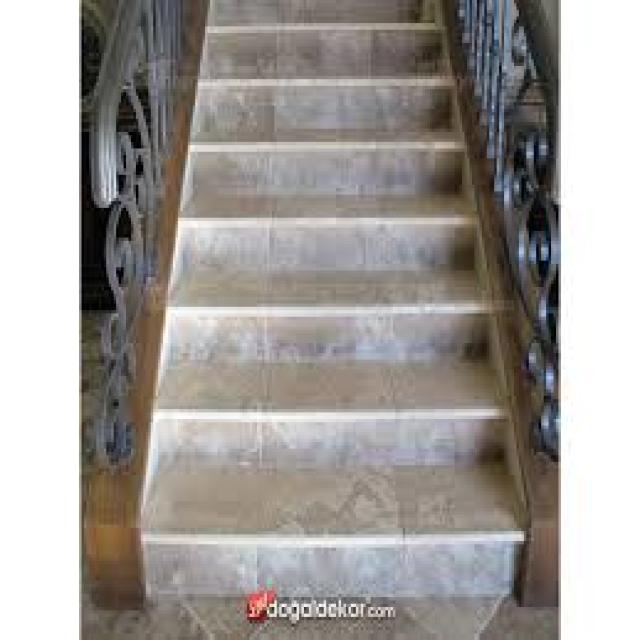upstair: (157, 13, 552, 603)
